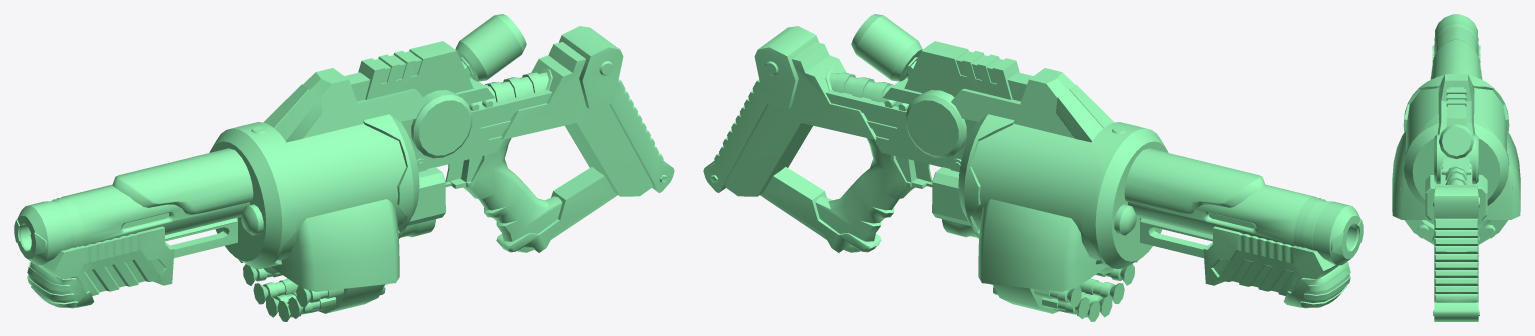
Rendered from Toy mashine gun_Low Poly.fbx.
3 renders of one model, left to right at view 1: azimuth 30°, elevation 25°; view 2: azimuth 150°, elevation 25°; view 3: azimuth 270°, elevation 25°, orthographic. The views are drawn at different scales.
Visible parts, largest first — view 1: Toy mashine gun, collar; view 2: Toy mashine gun, collar; view 3: Toy mashine gun, collar.
Boxes of the visible parts, left/top/right/bottom form: Toy mashine gun: left=14, top=14, right=674, bottom=308; collar: left=238, top=233, right=397, bottom=321; Toy mashine gun: left=703, top=14, right=1363, bottom=308; collar: left=980, top=234, right=1138, bottom=321; Toy mashine gun: left=1392, top=14, right=1520, bottom=321; collar: left=1400, top=186, right=1512, bottom=244.
Size of the model in its own units: 6384 by 2347 by 1532.
